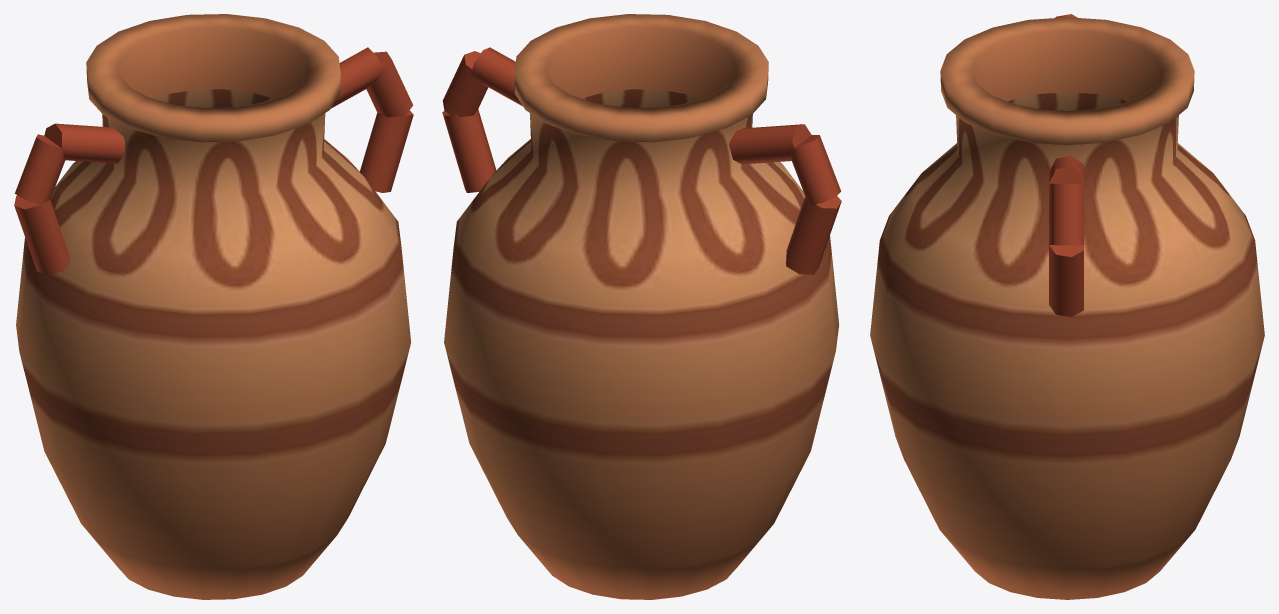
Rendered from bronzePaintedJar.glb.
3 renders of one model, left to right at view 1: azimuth 30°, elevation 25°; view 2: azimuth 150°, elevation 25°; view 3: azimuth 270°, elevation 25°, orthographic.
Parts seen in each view (by area): view 1: part_0, part_1; view 2: part_0, part_1; view 3: part_0, part_1.
Boxes of the visible parts, x1,y1,x2,y2 form: part_0: (16,14,411,599); part_1: (14,47,413,275); part_0: (444,14,838,599); part_1: (442,47,841,274); part_0: (870,17,1264,599); part_1: (1049,14,1083,317).
Bounding box in the file's own units: 0.6395 × 0.7604 × 0.5576.
Materials: 2 (1 with a texture image).
